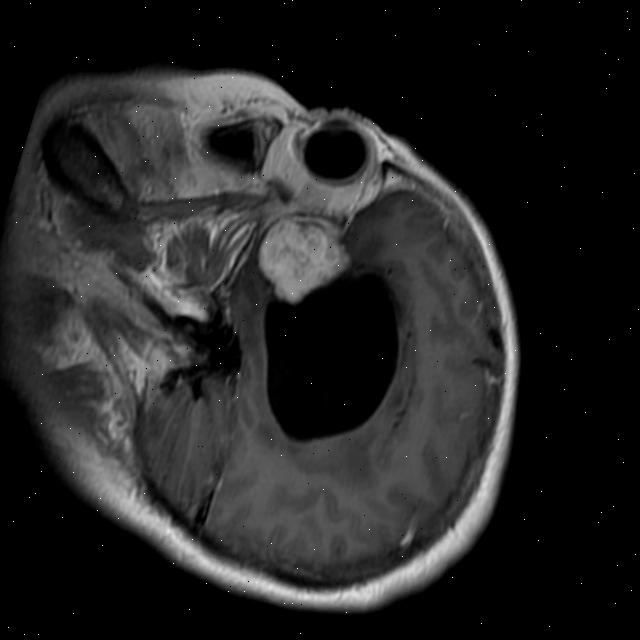Meningioma: (241, 201, 364, 321)
